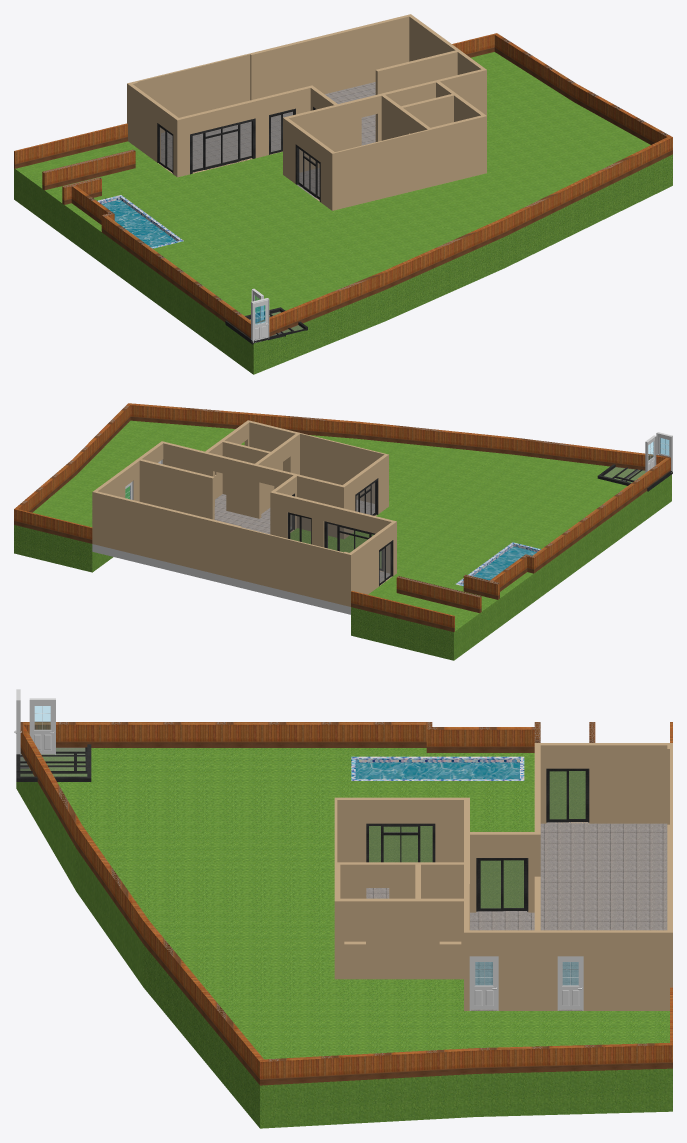
Rendered from viking_room.gltf.
3 renders of one model, top to bottom at view 1: azimuth 30°, elevation 25°; view 2: azimuth 150°, elevation 25°; view 3: azimuth 270°, elevation 25°, orthographic. The views are drawn at different scales.
Visible parts, largest first — view 1: G-Object.003, G-Object.001, G-Object, G-Object.002, G-Object.008, G-Object.007, _C-SD4 (Loose Mesh), _C-SD4 (Loose Mesh).001, Component#233, G-Object.013, G-Object.006; view 2: G-Object.003, G-Object.001, G-Object, G-Object.002, G-Object.008, G-Object.007, _C-SD4 (Loose Mesh), SD4, G-Object.013, G-Object.006, _C-SD4 (Loose Mesh).001; view 3: G-Object.003, G-Object.001, G-Object, G-Object.002, G-Object.007, G-Object.013, G-Object.006, _C-Component#233 (Loose Mesh), _C-Component#233 (Loose Mesh).001, Component#233.004, SD4, G-Object.014 (+5 smaller).
Boxes of the visible parts, <box> form: G-Object.003: <box>14,52,672,374</box>; G-Object.001: <box>127,14,486,210</box>; G-Object: <box>14,33,672,338</box>; G-Object.002: <box>161,82,375,199</box>; G-Object.008: <box>192,122,251,169</box>; G-Object.007: <box>101,199,176,247</box>; _C-SD4 (Loose Mesh): <box>190,118,255,174</box>; _C-SD4 (Loose Mesh).001: <box>295,144,320,201</box>; Component#233: <box>252,300,268,342</box>; G-Object.013: <box>299,149,319,196</box>; G-Object.006: <box>97,195,183,248</box>; G-Object.003: <box>14,420,671,660</box>; G-Object.001: <box>92,420,396,606</box>; G-Object: <box>14,403,670,631</box>; G-Object.002: <box>92,494,391,614</box>; G-Object.008: <box>327,523,381,568</box>; G-Object.007: <box>462,546,536,584</box>; _C-SD4 (Loose Mesh): <box>324,521,383,571</box>; SD4: <box>597,464,672,490</box>; G-Object.013: <box>356,483,375,514</box>; G-Object.006: <box>455,542,540,586</box>; _C-SD4 (Loose Mesh).001: <box>355,478,378,515</box>; G-Object.003: <box>16,748,672,1128</box>; G-Object.001: <box>334,743,672,1010</box>; G-Object: <box>20,722,672,1085</box>; G-Object.002: <box>366,822,667,1010</box>; G-Object.007: <box>355,762,519,779</box>; G-Object.013: <box>369,826,432,862</box>; G-Object.006: <box>351,756,524,780</box>; _C-Component#233 (Loose Mesh): <box>471,957,497,1009</box>; _C-Component#233 (Loose Mesh).001: <box>558,957,582,1009</box>; Component#233.004: <box>30,700,54,754</box>; SD4: <box>16,744,91,781</box>; G-Object.014: <box>503,860,523,908</box>.
Size of the model in its own units: 28 by 4.65 by 22.89.
10 materials, 6 textured.
